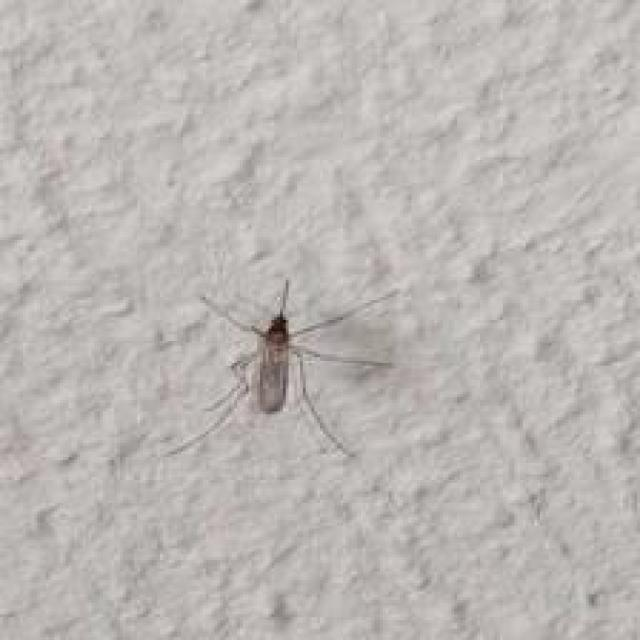Culex: (160, 276, 400, 461)
